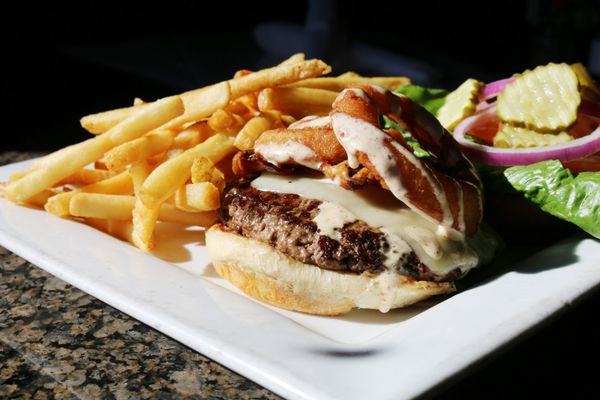soup: (204, 83, 490, 315)
sushi: (445, 59, 600, 168)
